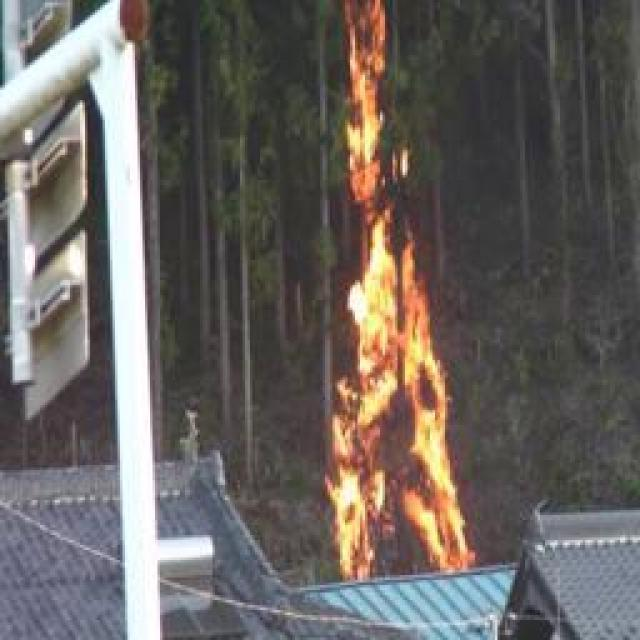Fire: (316, 3, 471, 586)
